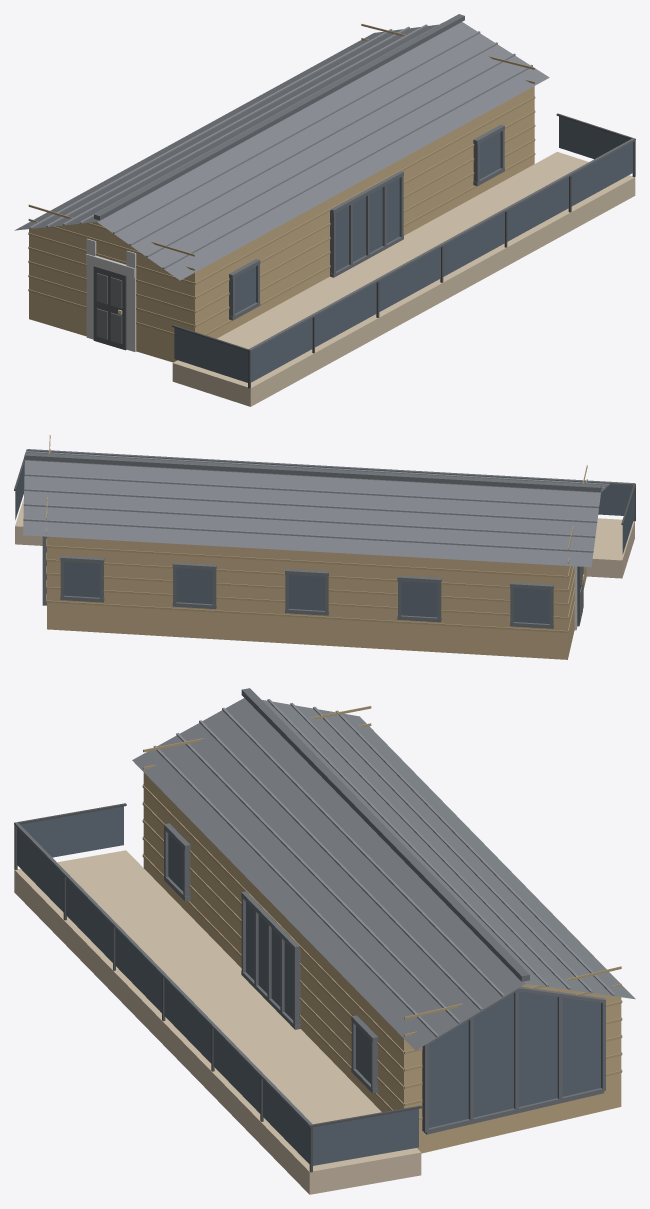
The picture shows the model from 3 angles, top to bottom: view 1: azimuth 30°, elevation 25°; view 2: azimuth 150°, elevation 25°; view 3: azimuth 270°, elevation 25°; orthographic projection. The views are drawn at different scales.
Parts seen in each view (by area): view 1: slate, door_wood, larch, slate_dk, slate_lt, door_wood_p, window_glass_007, stone_band, window_glass_006, window_glass_001, window_glass_004, window_glass_002 (+12 smaller); view 2: slate, door_wood, slate_dk, slate_lt, door_wood_p, larch, window_glass_017, window_glass_019, window_glass_020, window_glass_016, window_glass_018, window_glass_001 (+1 smaller); view 3: slate, larch, door_wood, slate_dk, window_glass_015, slate_lt, door_wood_p, window_glass_008, window_glass_007, window_glass_004, window_glass_005, pipe (+8 smaller).
Boxes of the visible parts, x1,y1,x2,y2 form: slate: (14,22,549,280); door_wood: (29,86,534,362); larch: (172,151,635,406); slate_dk: (94,14,635,351); slate_lt: (29,22,532,268); door_wood_p: (28,24,535,335); window_glass_007: (174,327,247,382); stone_band: (86,238,136,351); window_glass_006: (571,142,633,206); window_glass_001: (251,318,312,382); window_glass_004: (443,212,504,276); window_glass_002: (315,283,376,347); slate: (23,451,609,567); door_wood: (47,536,586,659); slate_dk: (24,449,634,628); slate_lt: (23,451,608,552); door_wood_p: (46,435,587,632); larch: (15,498,634,578); window_glass_017: (176,568,212,604); window_glass_019: (401,581,437,617); window_glass_020: (513,588,549,623); window_glass_016: (64,561,99,597); window_glass_018: (289,575,324,610); window_glass_001: (598,484,632,515); slate: (132,698,635,1050); larch: (14,850,421,1194); door_wood: (143,730,621,1153); slate_dk: (14,688,605,1134); window_glass_015: (428,991,600,1127); slate_lt: (153,699,614,1037); door_wood_p: (142,706,622,1120); window_glass_008: (313,1109,418,1165); window_glass_007: (20,806,123,857); window_glass_004: (164,979,211,1063); window_glass_005: (213,1029,260,1113); pipe: (14,803,421,1172).
Bounding box in the file's own units: 16.92 × 3.68 × 12.35.
